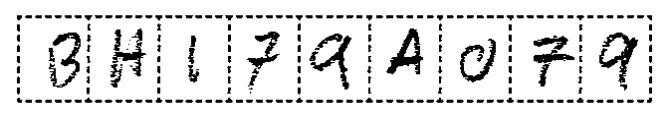0: (455, 33, 500, 88)
1: (173, 29, 211, 84)
7: (523, 28, 575, 89), (239, 28, 286, 92)
9: (303, 27, 359, 94), (592, 29, 642, 94)
A: (383, 22, 429, 83)
B: (42, 28, 84, 90)
H: (105, 26, 150, 90)
